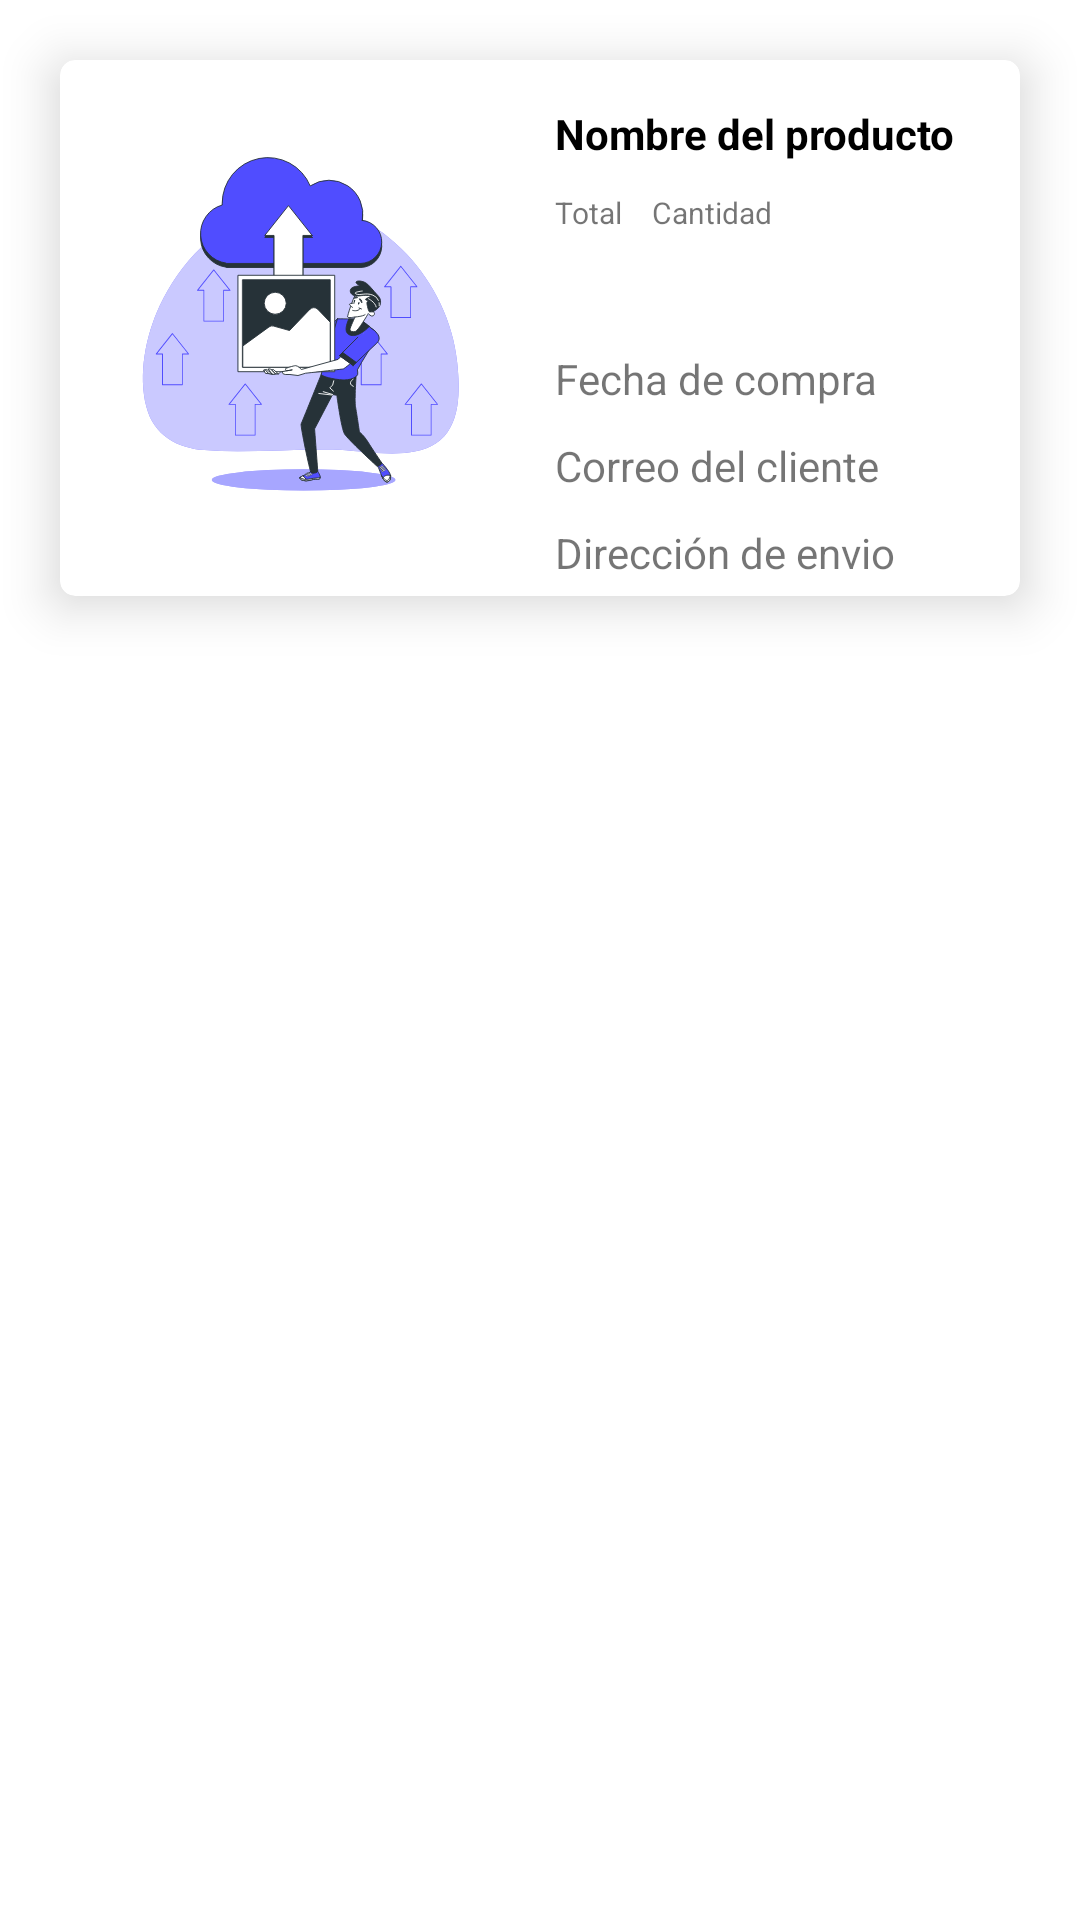

Locate icon controls on the screen. Image size 1080x1920, boxes as detection(x1, y1, x2, y2).
upload bro: detection(143, 157, 459, 491)
